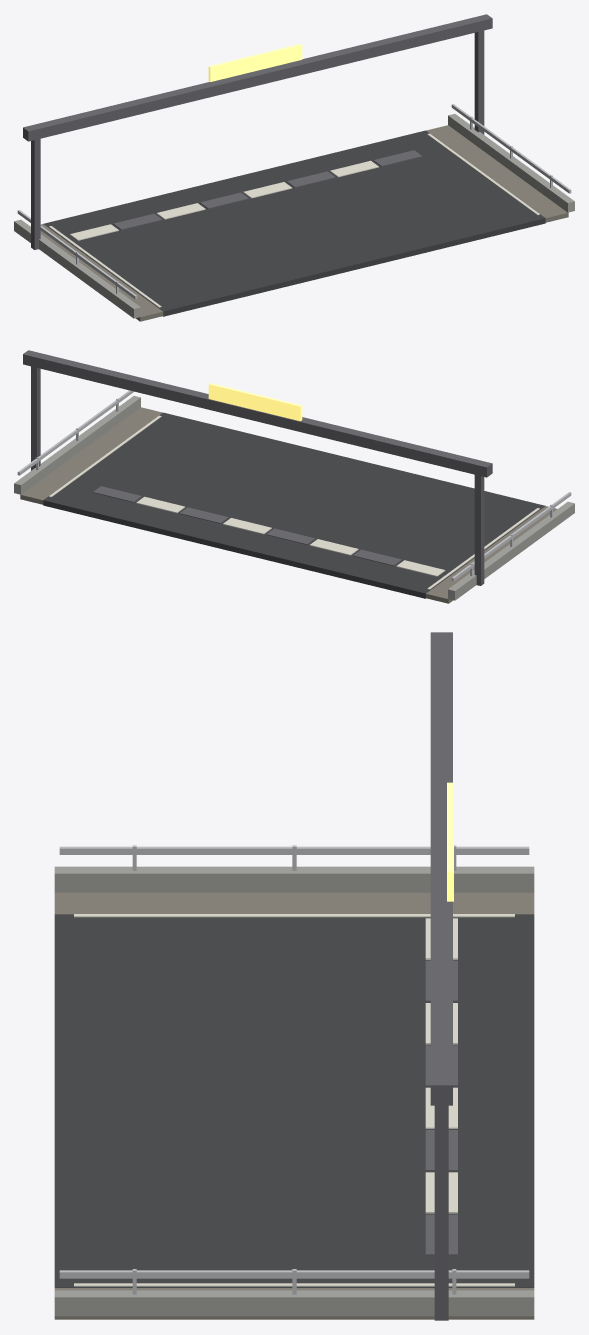
File: track_finish_v1.glb
3 views of the same model, one above another, from view 1: azimuth 30°, elevation 25°; view 2: azimuth 150°, elevation 25°; view 3: azimuth 270°, elevation 25° (orthographic). The views are drawn at different scales.
Parts seen in each view (by area): view 1: ROAD_01.001, FINISH_BEAM, RAILBASE.008, SHOULDER_01_2.008, FINISH_BRAND, RAILMETAL.008, SHOULDER_01_1.008, FINISH_POLE_L, FINISH_POLE_R, EDGE_01_L.008, EDGE_01_R.008, FINISH_CHECK_1 (+1 smaller); view 2: ROAD_01.001, FINISH_BEAM, RAILBASE.008, SHOULDER_01_2.008, FINISH_BRAND, RAILMETAL.008, FINISH_POLE_L, SHOULDER_01_1.008, FINISH_POLE_R, EDGE_01_R.008, FINISH_CHECK_0, FINISH_CHECK_5 (+7 smaller); view 3: ROAD_01.001, RAILBASE.008, FINISH_BEAM, SHOULDER_01_1.008, RAILMETAL.008, SHOULDER_01_2.008, FINISH_POLE_R, EDGE_01_L.008, EDGE_01_R.008.
Part boxes in pixels (x1,y1,x2,y2): ROAD_01.001: [43, 130, 545, 316]; FINISH_BEAM: [23, 14, 492, 141]; RAILBASE.008: [14, 114, 574, 318]; SHOULDER_01_2.008: [426, 125, 568, 222]; FINISH_BRAND: [208, 44, 302, 81]; RAILMETAL.008: [17, 104, 571, 299]; SHOULDER_01_1.008: [40, 224, 163, 321]; FINISH_POLE_L: [31, 138, 40, 249]; FINISH_POLE_R: [474, 30, 484, 134]; EDGE_01_L.008: [49, 226, 161, 307]; EDGE_01_R.008: [427, 133, 539, 215]; FINISH_CHECK_1: [113, 213, 162, 230]; ROAD_01.001: [43, 412, 545, 598]; FINISH_BEAM: [23, 350, 492, 477]; RAILBASE.008: [14, 396, 574, 600]; SHOULDER_01_2.008: [20, 407, 162, 504]; FINISH_BRAND: [208, 383, 302, 421]; RAILMETAL.008: [17, 390, 571, 581]; FINISH_POLE_L: [474, 475, 484, 585]; SHOULDER_01_1.008: [425, 506, 557, 603]; FINISH_POLE_R: [31, 366, 40, 470]; EDGE_01_R.008: [49, 415, 161, 497]; FINISH_CHECK_0: [396, 560, 445, 576]; FINISH_CHECK_5: [179, 507, 228, 523]; ROAD_01.001: [54, 914, 534, 1287]; RAILBASE.008: [54, 866, 534, 1316]; FINISH_BEAM: [430, 632, 452, 1105]; SHOULDER_01_1.008: [54, 892, 534, 914]; RAILMETAL.008: [59, 846, 529, 1278]; SHOULDER_01_2.008: [54, 1288, 534, 1319]; FINISH_POLE_R: [434, 1105, 448, 1320]; EDGE_01_L.008: [74, 914, 514, 917]; EDGE_01_R.008: [74, 1283, 514, 1286].
Bounding box in the file's own units: 18.2 × 5.32 × 8.14.
